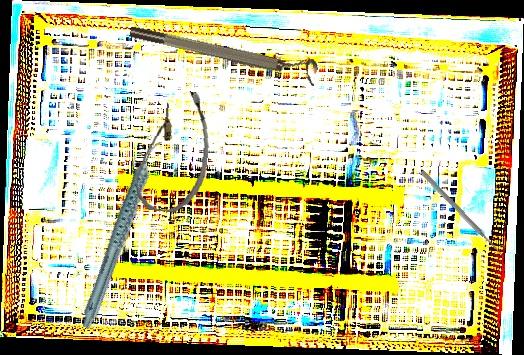Cannula: (132, 86, 215, 216)
Fixation Ring: (128, 14, 320, 87)
Handpiece: (46, 138, 200, 331)
Pusher: (419, 169, 505, 258)
